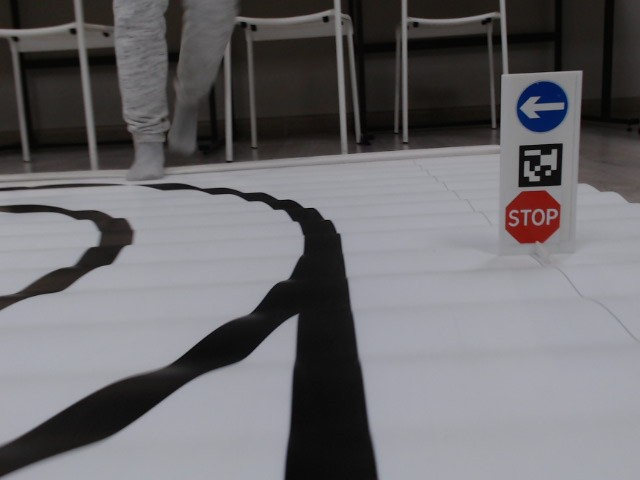Stop: (506, 191, 561, 246)
